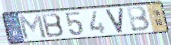4: (88, 9, 107, 34)
5: (63, 10, 85, 36)
B: (125, 5, 152, 33), (40, 12, 66, 39)
M: (17, 13, 49, 41)
V: (104, 7, 125, 35)
